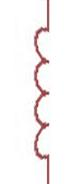inductor: (21, 13, 59, 164)
